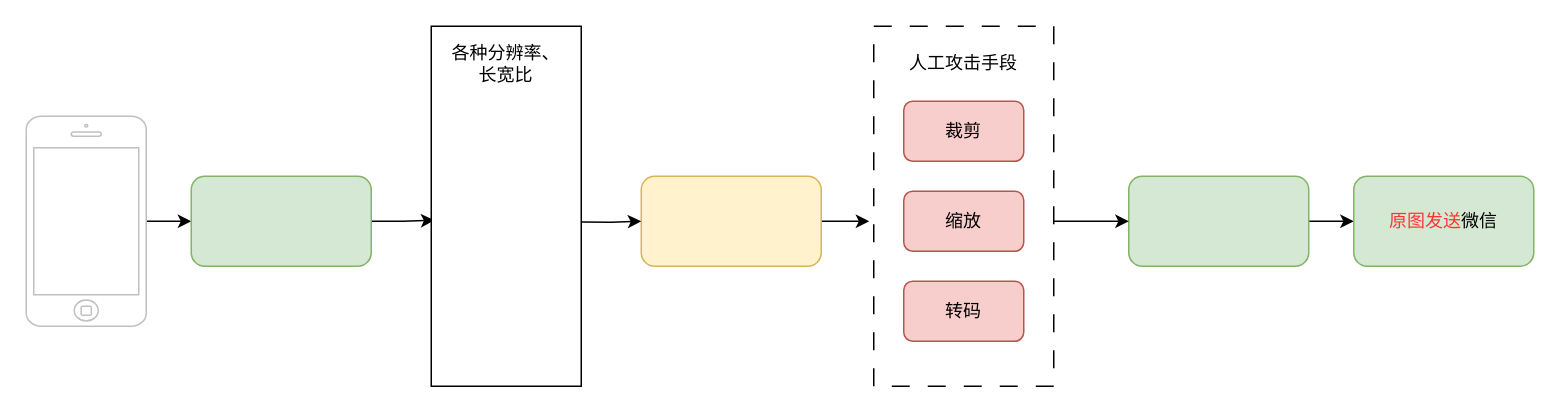
This 1560x413 diagram has some shape labels left out. Here are the shapes that lost their labels. From the top down, the box of each, then its label:
(190, 175, 371, 266): 今日水印APP 拍照
(640, 175, 821, 266): 拷贝至PC 添加水印
(1127, 175, 1309, 266): 打包 下载回手机
